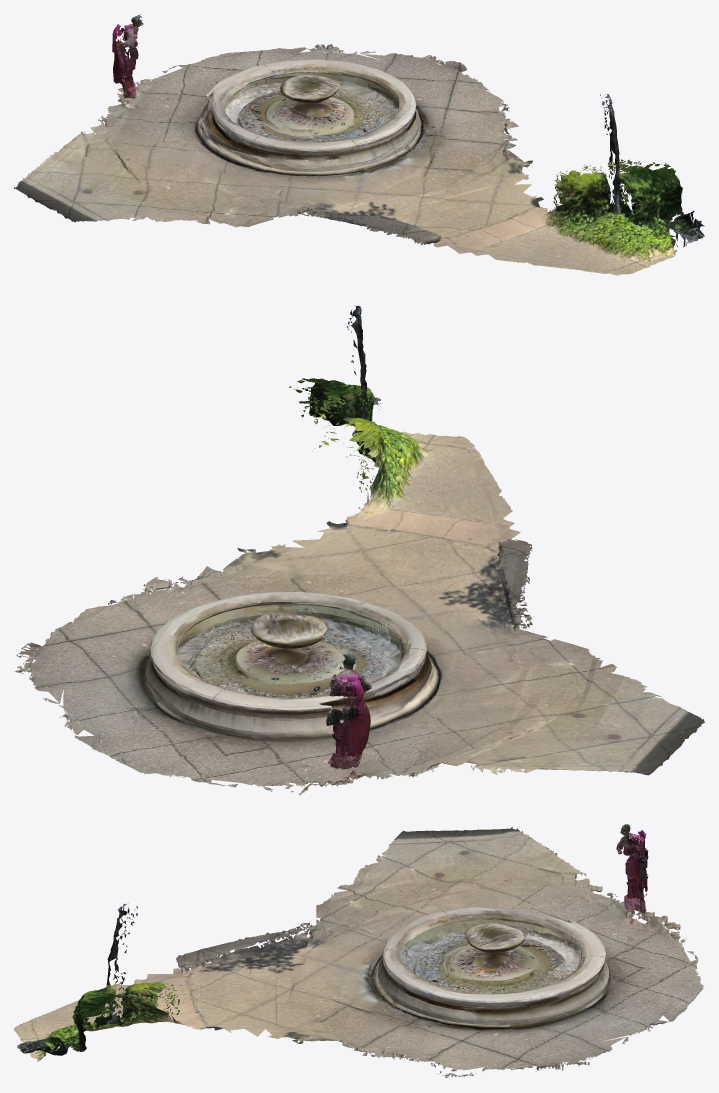
3 views of the same model, one above another, from view 1: azimuth 30°, elevation 25°; view 2: azimuth 150°, elevation 25°; view 3: azimuth 270°, elevation 25° (orthographic). The views are drawn at different scales.
Visible parts, largest first — view 1: mesh; view 2: mesh; view 3: mesh.
Part boxes in pixels (x1,y1,x2,y2): mesh: [14, 14, 704, 275]; mesh: [14, 305, 704, 795]; mesh: [14, 824, 704, 1077].
Size of the model in its own units: 8.7 by 2.5 by 10.62.
Materials: 1 (1 with a texture image).
